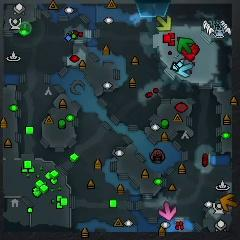x1: (159, 202, 177, 220)
x2: (156, 15, 172, 31)
x3: (173, 59, 193, 78)
x4: (177, 38, 195, 54)
x5: (220, 193, 237, 213)
